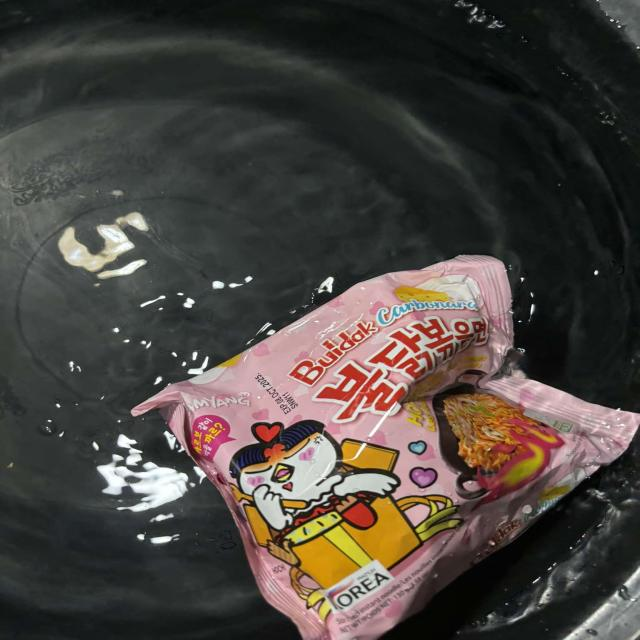Plastic Wrapper: (114, 239, 640, 640)
